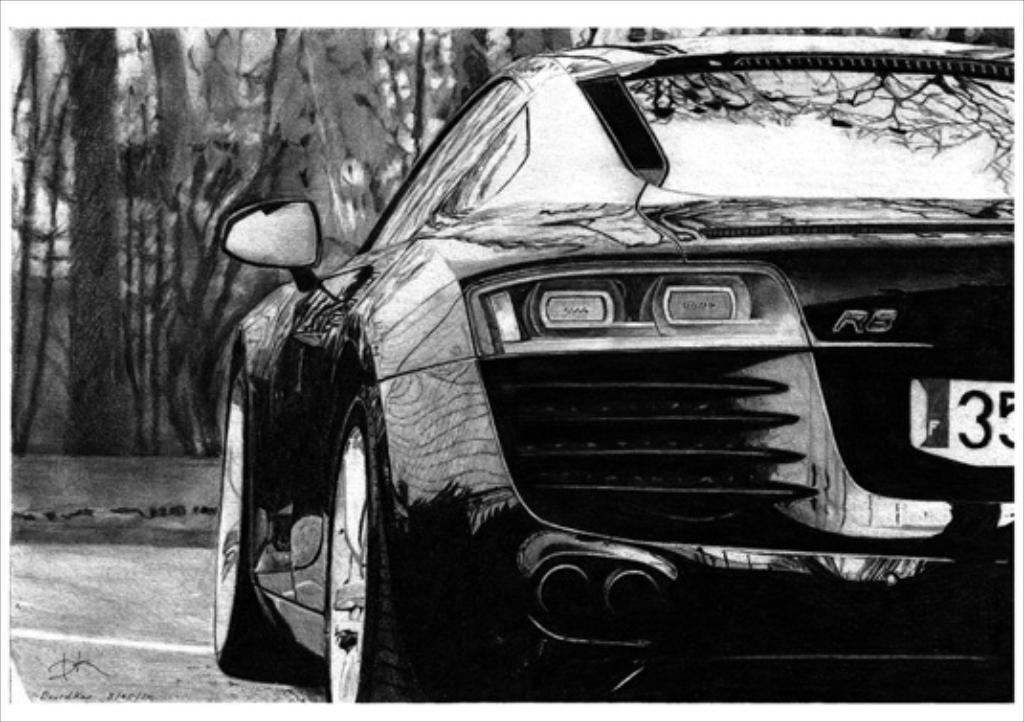Car: (151, 19, 970, 718)
